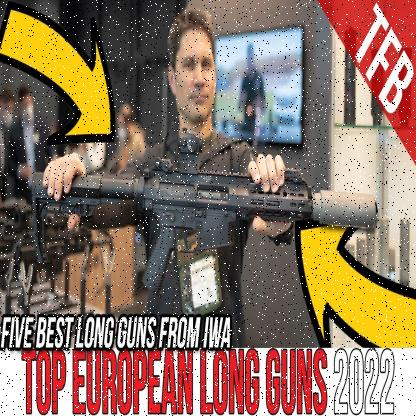rifle: (18, 137, 379, 297)
